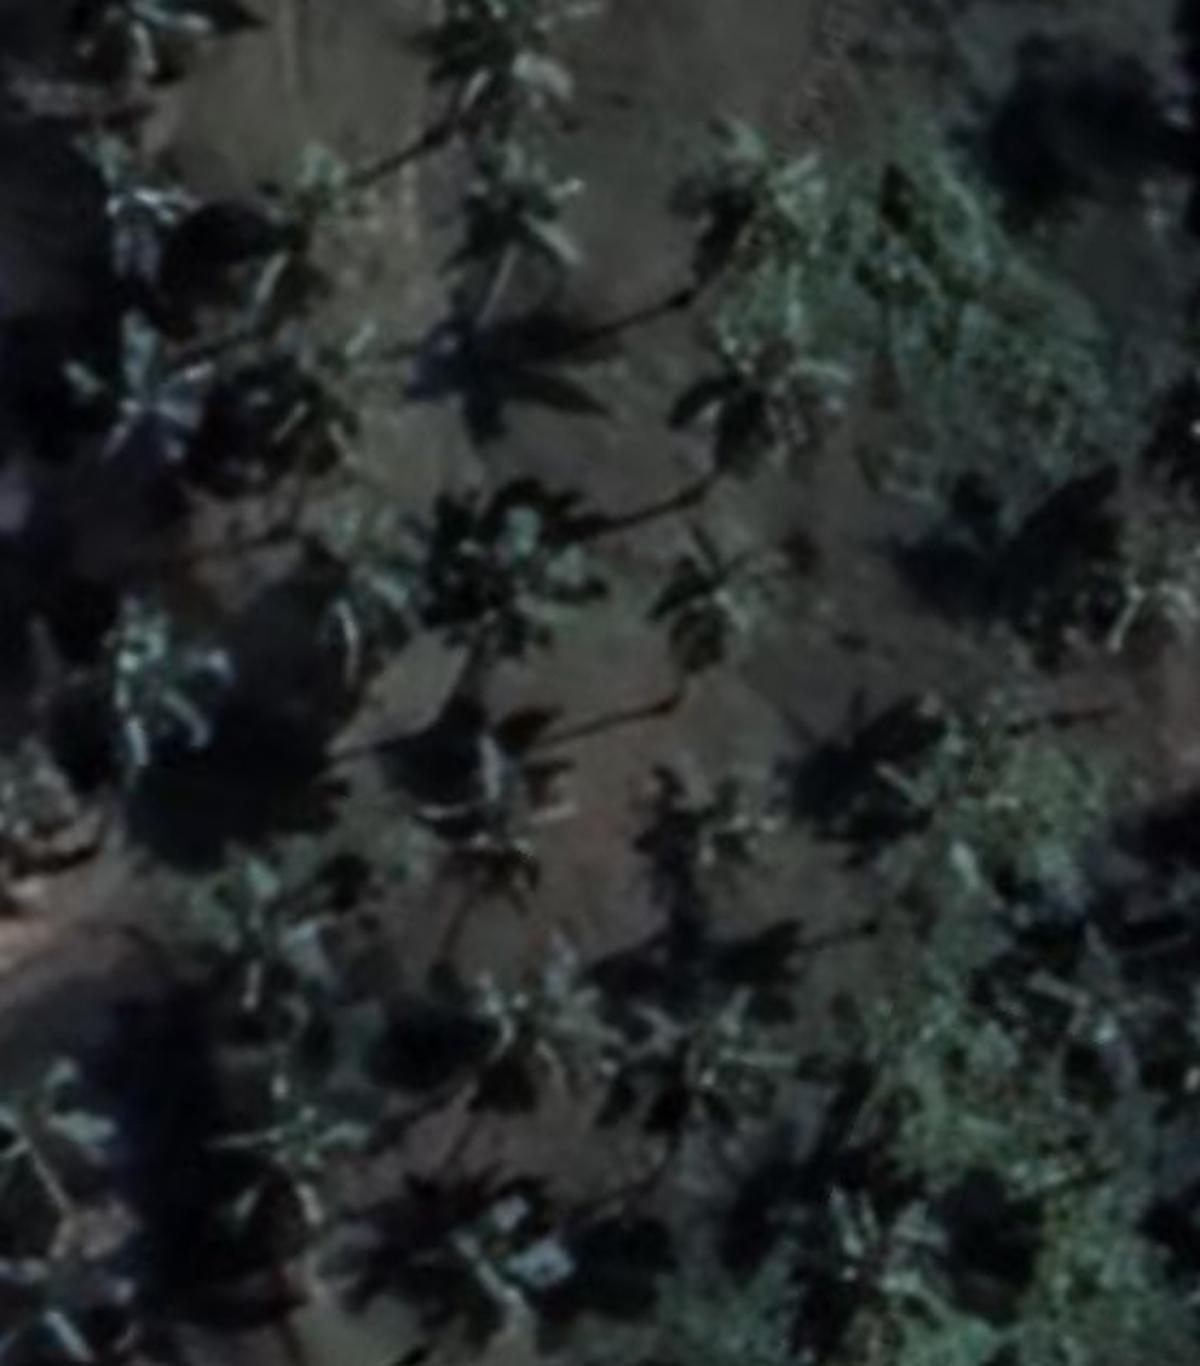coconut: (58, 590, 242, 786), (427, 922, 620, 1102), (203, 1063, 369, 1253), (678, 134, 860, 304), (704, 309, 874, 477), (58, 324, 227, 490), (415, 721, 572, 896), (43, 118, 204, 285), (417, 1182, 585, 1340), (430, 512, 596, 666), (2, 1212, 168, 1361), (454, 138, 609, 299), (436, 3, 628, 129), (224, 144, 376, 302), (235, 328, 397, 469), (637, 985, 779, 1145), (793, 1177, 951, 1320), (196, 853, 339, 1011), (849, 717, 985, 877), (659, 523, 802, 673), (2, 1050, 134, 1206), (635, 760, 774, 905), (299, 518, 427, 663)
